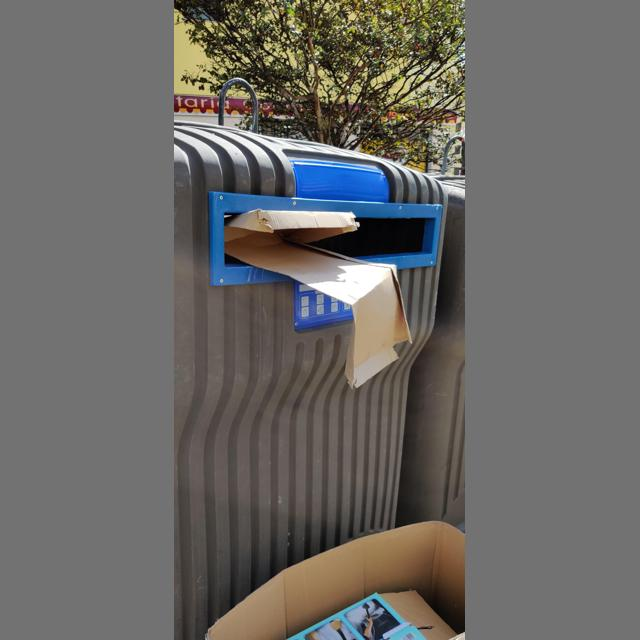litter: (225, 209, 413, 390), (205, 520, 465, 640), (285, 590, 458, 640)
